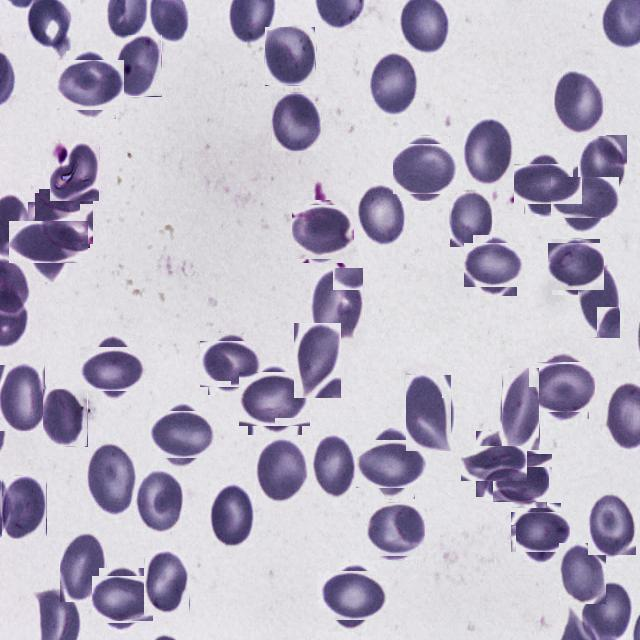red blood cell: (311, 268, 364, 346), (244, 368, 306, 430), (85, 440, 135, 515), (322, 566, 383, 626), (19, 212, 80, 272), (361, 434, 421, 494), (256, 437, 309, 504), (406, 375, 452, 452), (294, 323, 341, 398), (463, 116, 514, 185), (554, 70, 606, 136), (61, 56, 120, 114), (294, 202, 352, 260), (396, 140, 454, 198), (535, 358, 592, 416), (60, 531, 106, 602), (368, 51, 418, 116), (154, 406, 210, 464), (366, 502, 424, 558), (356, 183, 405, 248), (502, 368, 540, 451), (50, 139, 100, 202), (136, 468, 184, 533), (208, 481, 254, 548), (84, 341, 140, 396), (588, 491, 636, 555), (578, 265, 620, 338), (144, 550, 190, 616), (37, 191, 92, 246), (265, 27, 316, 86), (0, 365, 45, 431), (578, 135, 627, 195), (312, 435, 357, 500), (204, 337, 258, 391), (96, 572, 150, 626), (496, 451, 550, 505), (558, 171, 612, 225), (2, 476, 47, 540), (559, 543, 606, 604), (468, 238, 522, 291), (272, 92, 321, 150), (117, 35, 162, 97), (550, 241, 602, 293), (468, 438, 520, 489), (43, 389, 88, 447), (516, 508, 566, 558), (519, 159, 569, 209), (450, 190, 492, 247)
